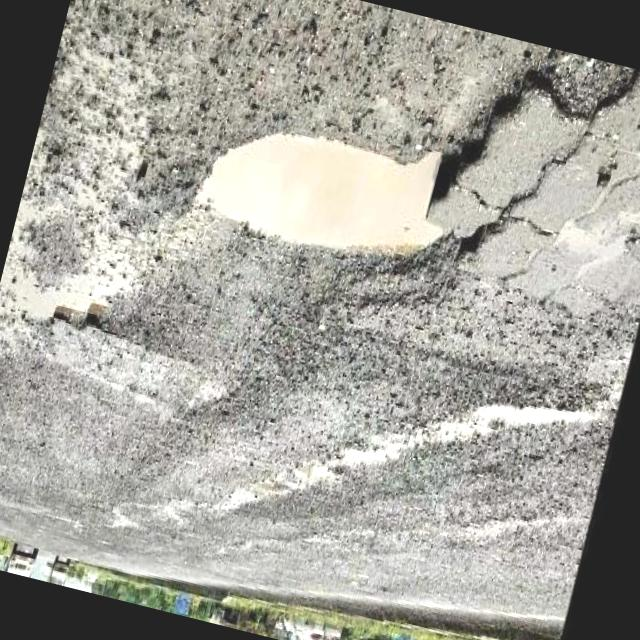pothole: (182, 90, 514, 309)
